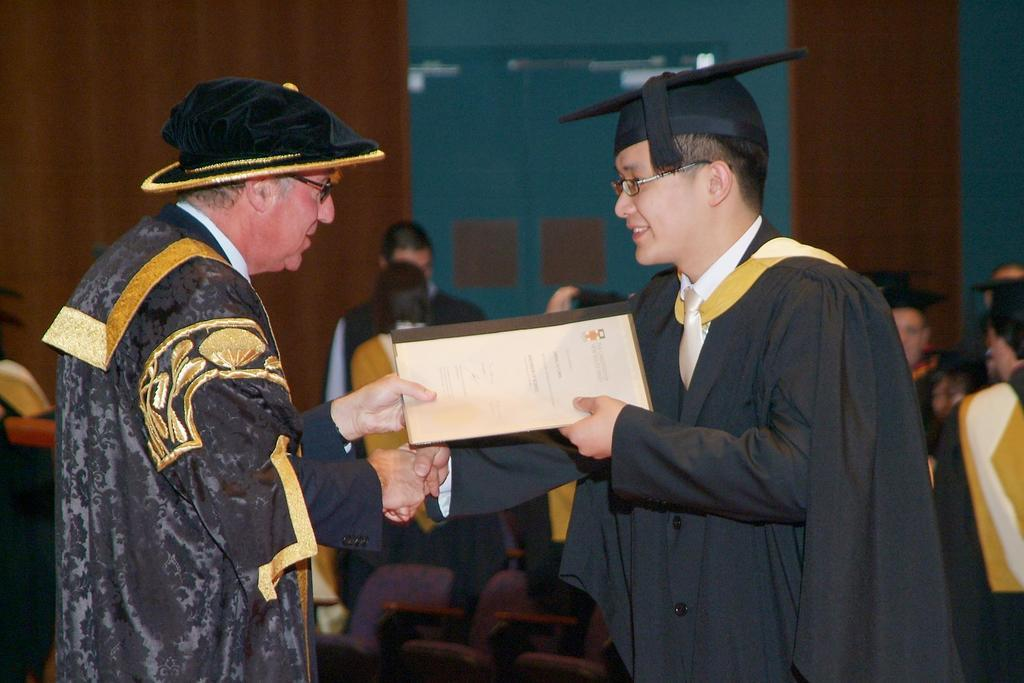Hat: (560, 43, 816, 174), (141, 75, 384, 194), (968, 277, 1022, 312), (888, 285, 940, 315), (572, 284, 632, 304)
